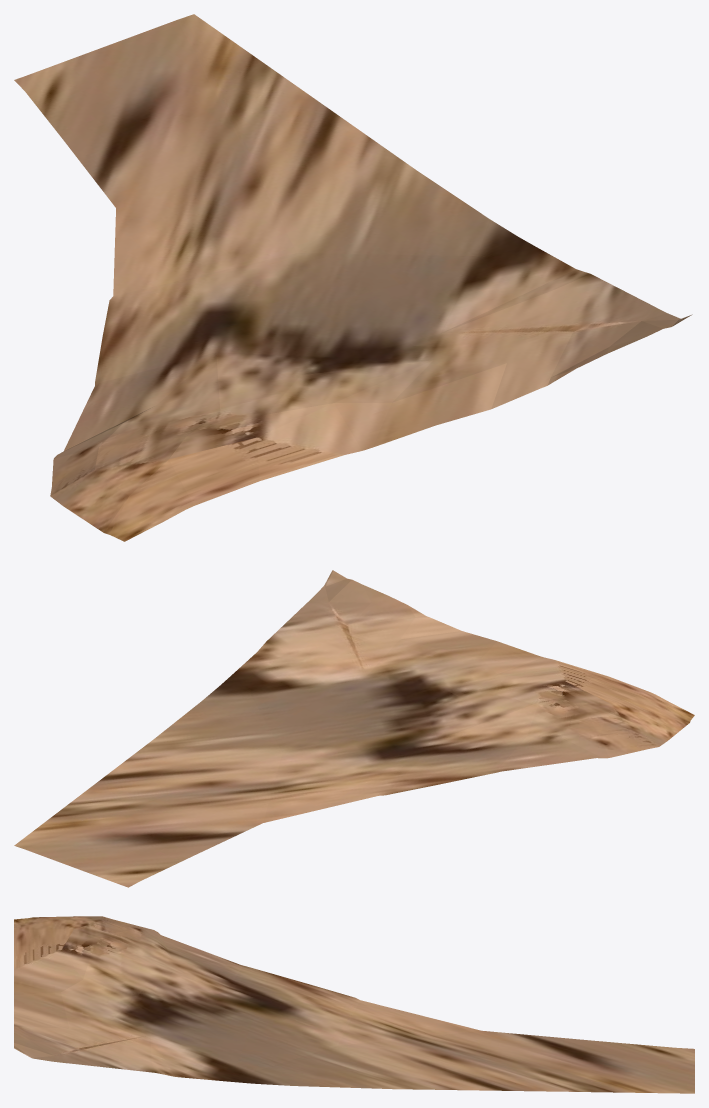
The picture shows the model from 3 angles, top to bottom: view 1: azimuth 30°, elevation 25°; view 2: azimuth 150°, elevation 25°; view 3: azimuth 270°, elevation 25°; orthographic projection. The views are drawn at different scales.
Bounding box in the file's own units: 0.6982 × 0.1022 × 1.04.
1 material, 1 textured.
